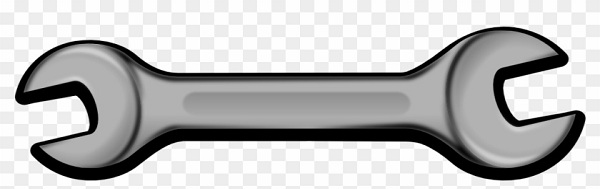Job: (2, 7, 592, 189)
